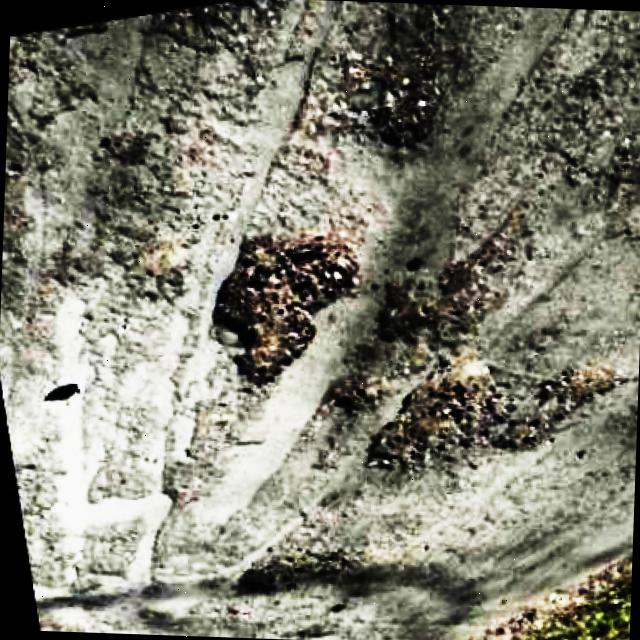pothole: (368, 362, 596, 477), (204, 224, 356, 391), (374, 230, 549, 353), (355, 15, 475, 150), (235, 526, 360, 602)
